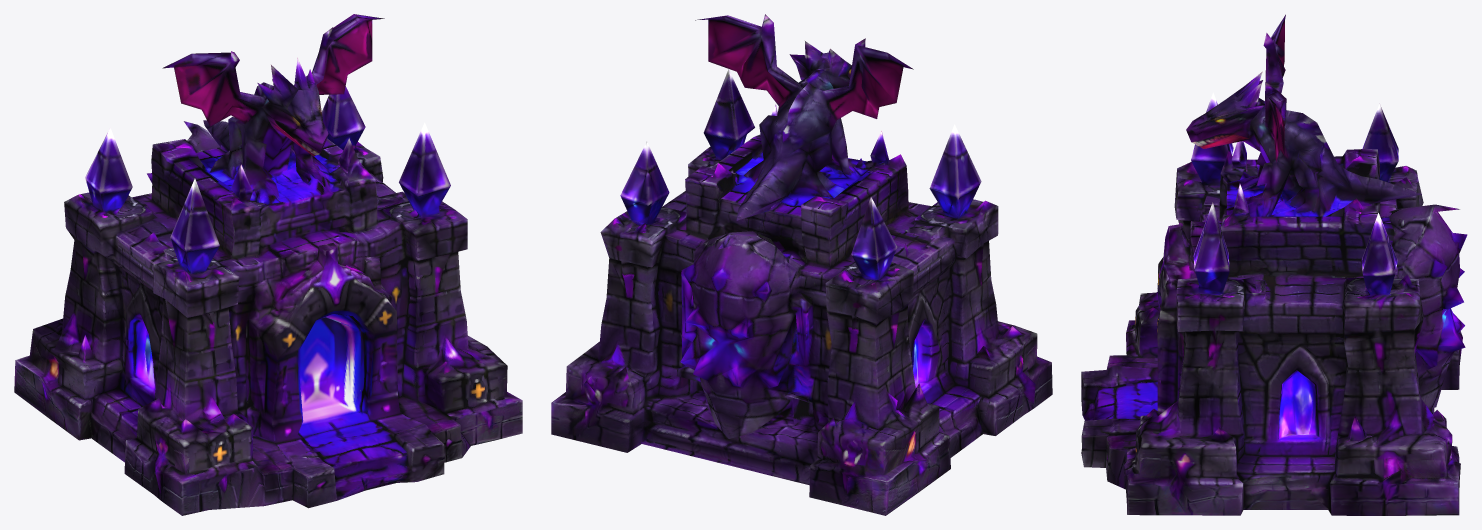
Rendered from void_tower_lvl2.glb.
3 renders of one model, left to right at view 1: azimuth 30°, elevation 25°; view 2: azimuth 150°, elevation 25°; view 3: azimuth 270°, elevation 25°, orthographic.
Parts seen in each view (by area): view 1: mesh_node; view 2: mesh_node; view 3: mesh_node.
Part boxes in pixels (bbox=[...]): mesh_node: bbox=[14, 14, 522, 515]; mesh_node: bbox=[551, 14, 1052, 515]; mesh_node: bbox=[1081, 14, 1467, 515].
Size of the model in its own units: 1.81 by 1.9 by 1.76.
Materials: 1 (1 with a texture image).
